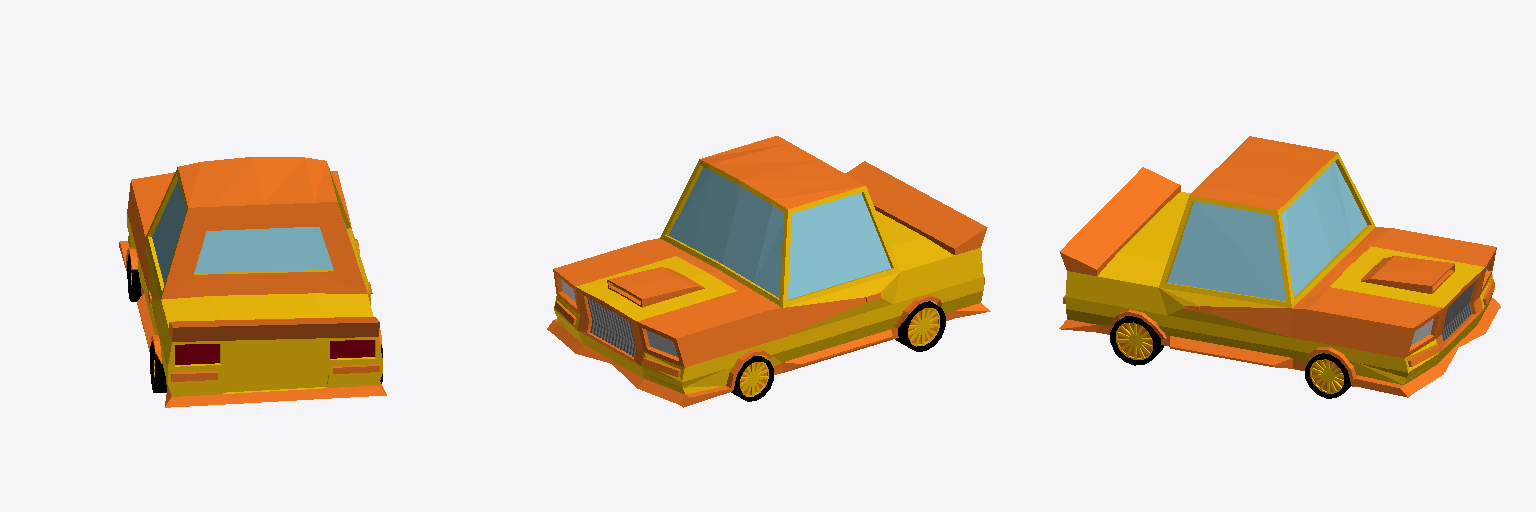
The picture shows the model from 3 angles: view 1: azimuth 30°, elevation 25°; view 2: azimuth 150°, elevation 25°; view 3: azimuth 270°, elevation 25°; orthographic projection.
Visible parts, largest first — view 1: body_ID56, backlight_ID75, wheel.1_ID84; view 2: body_ID56, wheel.1_ID84, lattice.1_ID29, wheel1.1_ID93, headlight_ID66; view 3: body_ID56, wheel.1_ID84, wheel1.1_ID93, lattice.1_ID29.
Part boxes in pixels (x1,y1,x2,y2): body_ID56: (119, 157, 386, 407); backlight_ID75: (175, 340, 374, 364); wheel.1_ID84: (150, 341, 382, 392); body_ID56: (547, 136, 990, 407); wheel.1_ID84: (895, 301, 945, 351); lattice.1_ID29: (587, 298, 635, 356); wheel1.1_ID93: (731, 356, 773, 401); headlight_ID66: (561, 279, 677, 356); body_ID56: (1059, 136, 1500, 397); wheel.1_ID84: (1110, 316, 1163, 365); wheel1.1_ID93: (1305, 353, 1351, 398); lattice.1_ID29: (1442, 282, 1474, 341).
Size of the model in its own units: 2.16 by 1.11 by 2.64.
Materials: 7 (7 with a texture image).